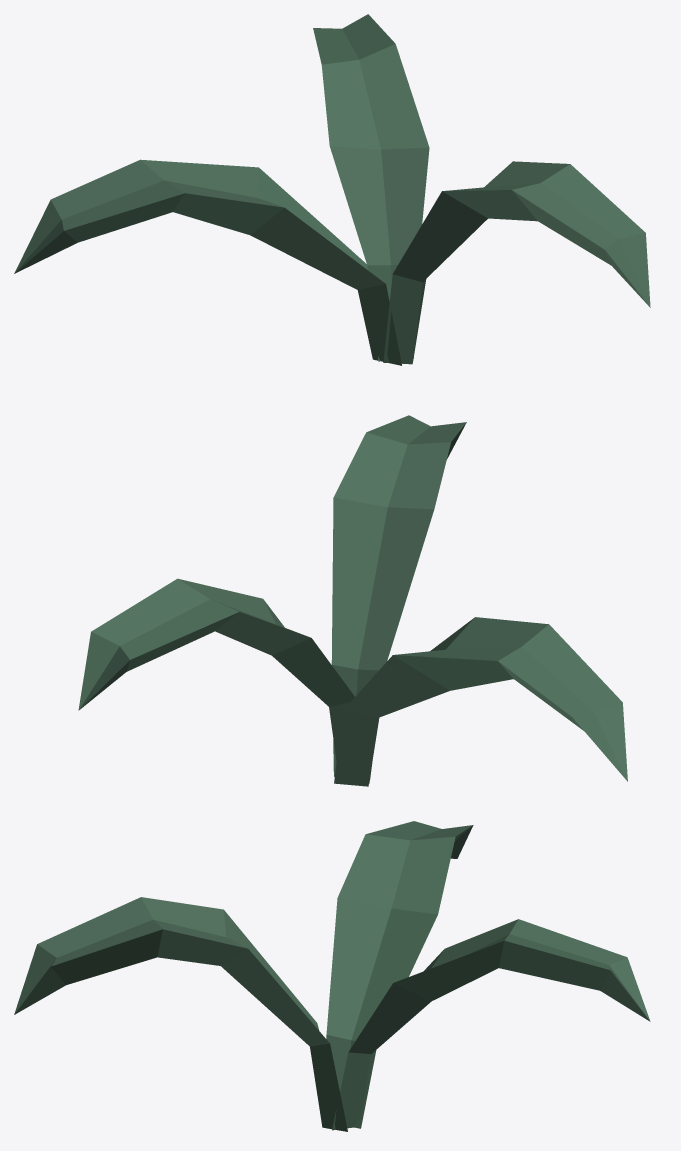
Rendered from samurai_SM_Gen_Env_Fern_02.gltf.
3 views of the same model, one above another, from view 1: azimuth 30°, elevation 25°; view 2: azimuth 150°, elevation 25°; view 3: azimuth 270°, elevation 25° (orthographic). The views are drawn at different scales.
Visible parts, largest first — view 1: SM_Gen_Env_Fern_02; view 2: SM_Gen_Env_Fern_02; view 3: SM_Gen_Env_Fern_02.
Part boxes in pixels (box(x1,y1,x2,y2)): SM_Gen_Env_Fern_02: box(14, 14, 650, 365); SM_Gen_Env_Fern_02: box(78, 415, 627, 786); SM_Gen_Env_Fern_02: box(14, 821, 650, 1131).
Bounding box in the file's own units: 1.6 × 0.6371 × 1.61.
Materials: 1 (1 with a texture image).
